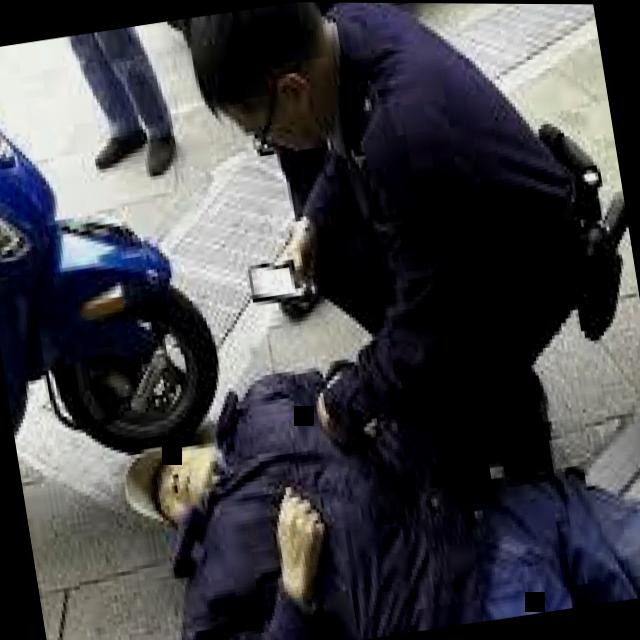Fall-Detected: (101, 272, 640, 640)
